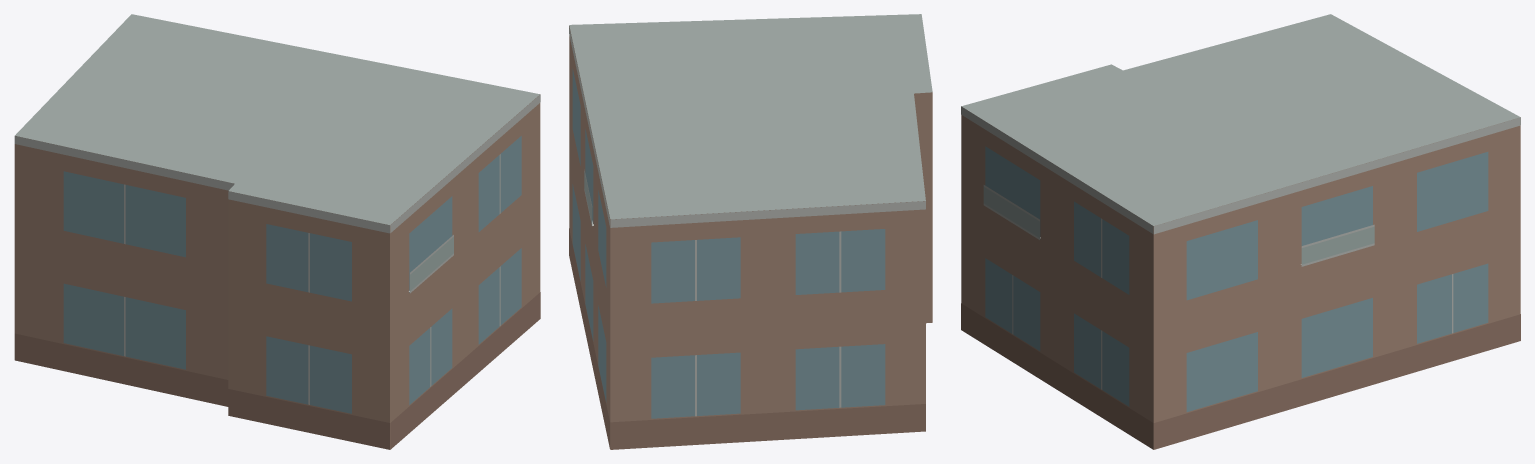
Rendered from survey-upis-32673747.glb.
3 renders of one model, left to right at view 1: azimuth 30°, elevation 25°; view 2: azimuth 150°, elevation 25°; view 3: azimuth 270°, elevation 25°, orthographic. The views are drawn at different scales.
Parts seen in each view (by area): view 1: survey-upis-32673747.tmp; view 2: survey-upis-32673747.tmp; view 3: survey-upis-32673747.tmp.
Part boxes in pixels (<box>): survey-upis-32673747.tmp: <box>14,14,540,449</box>; survey-upis-32673747.tmp: <box>569,14,932,449</box>; survey-upis-32673747.tmp: <box>961,14,1520,449</box>.
Bounding box in the file's own units: 13.44 × 6.6 × 14.97.
